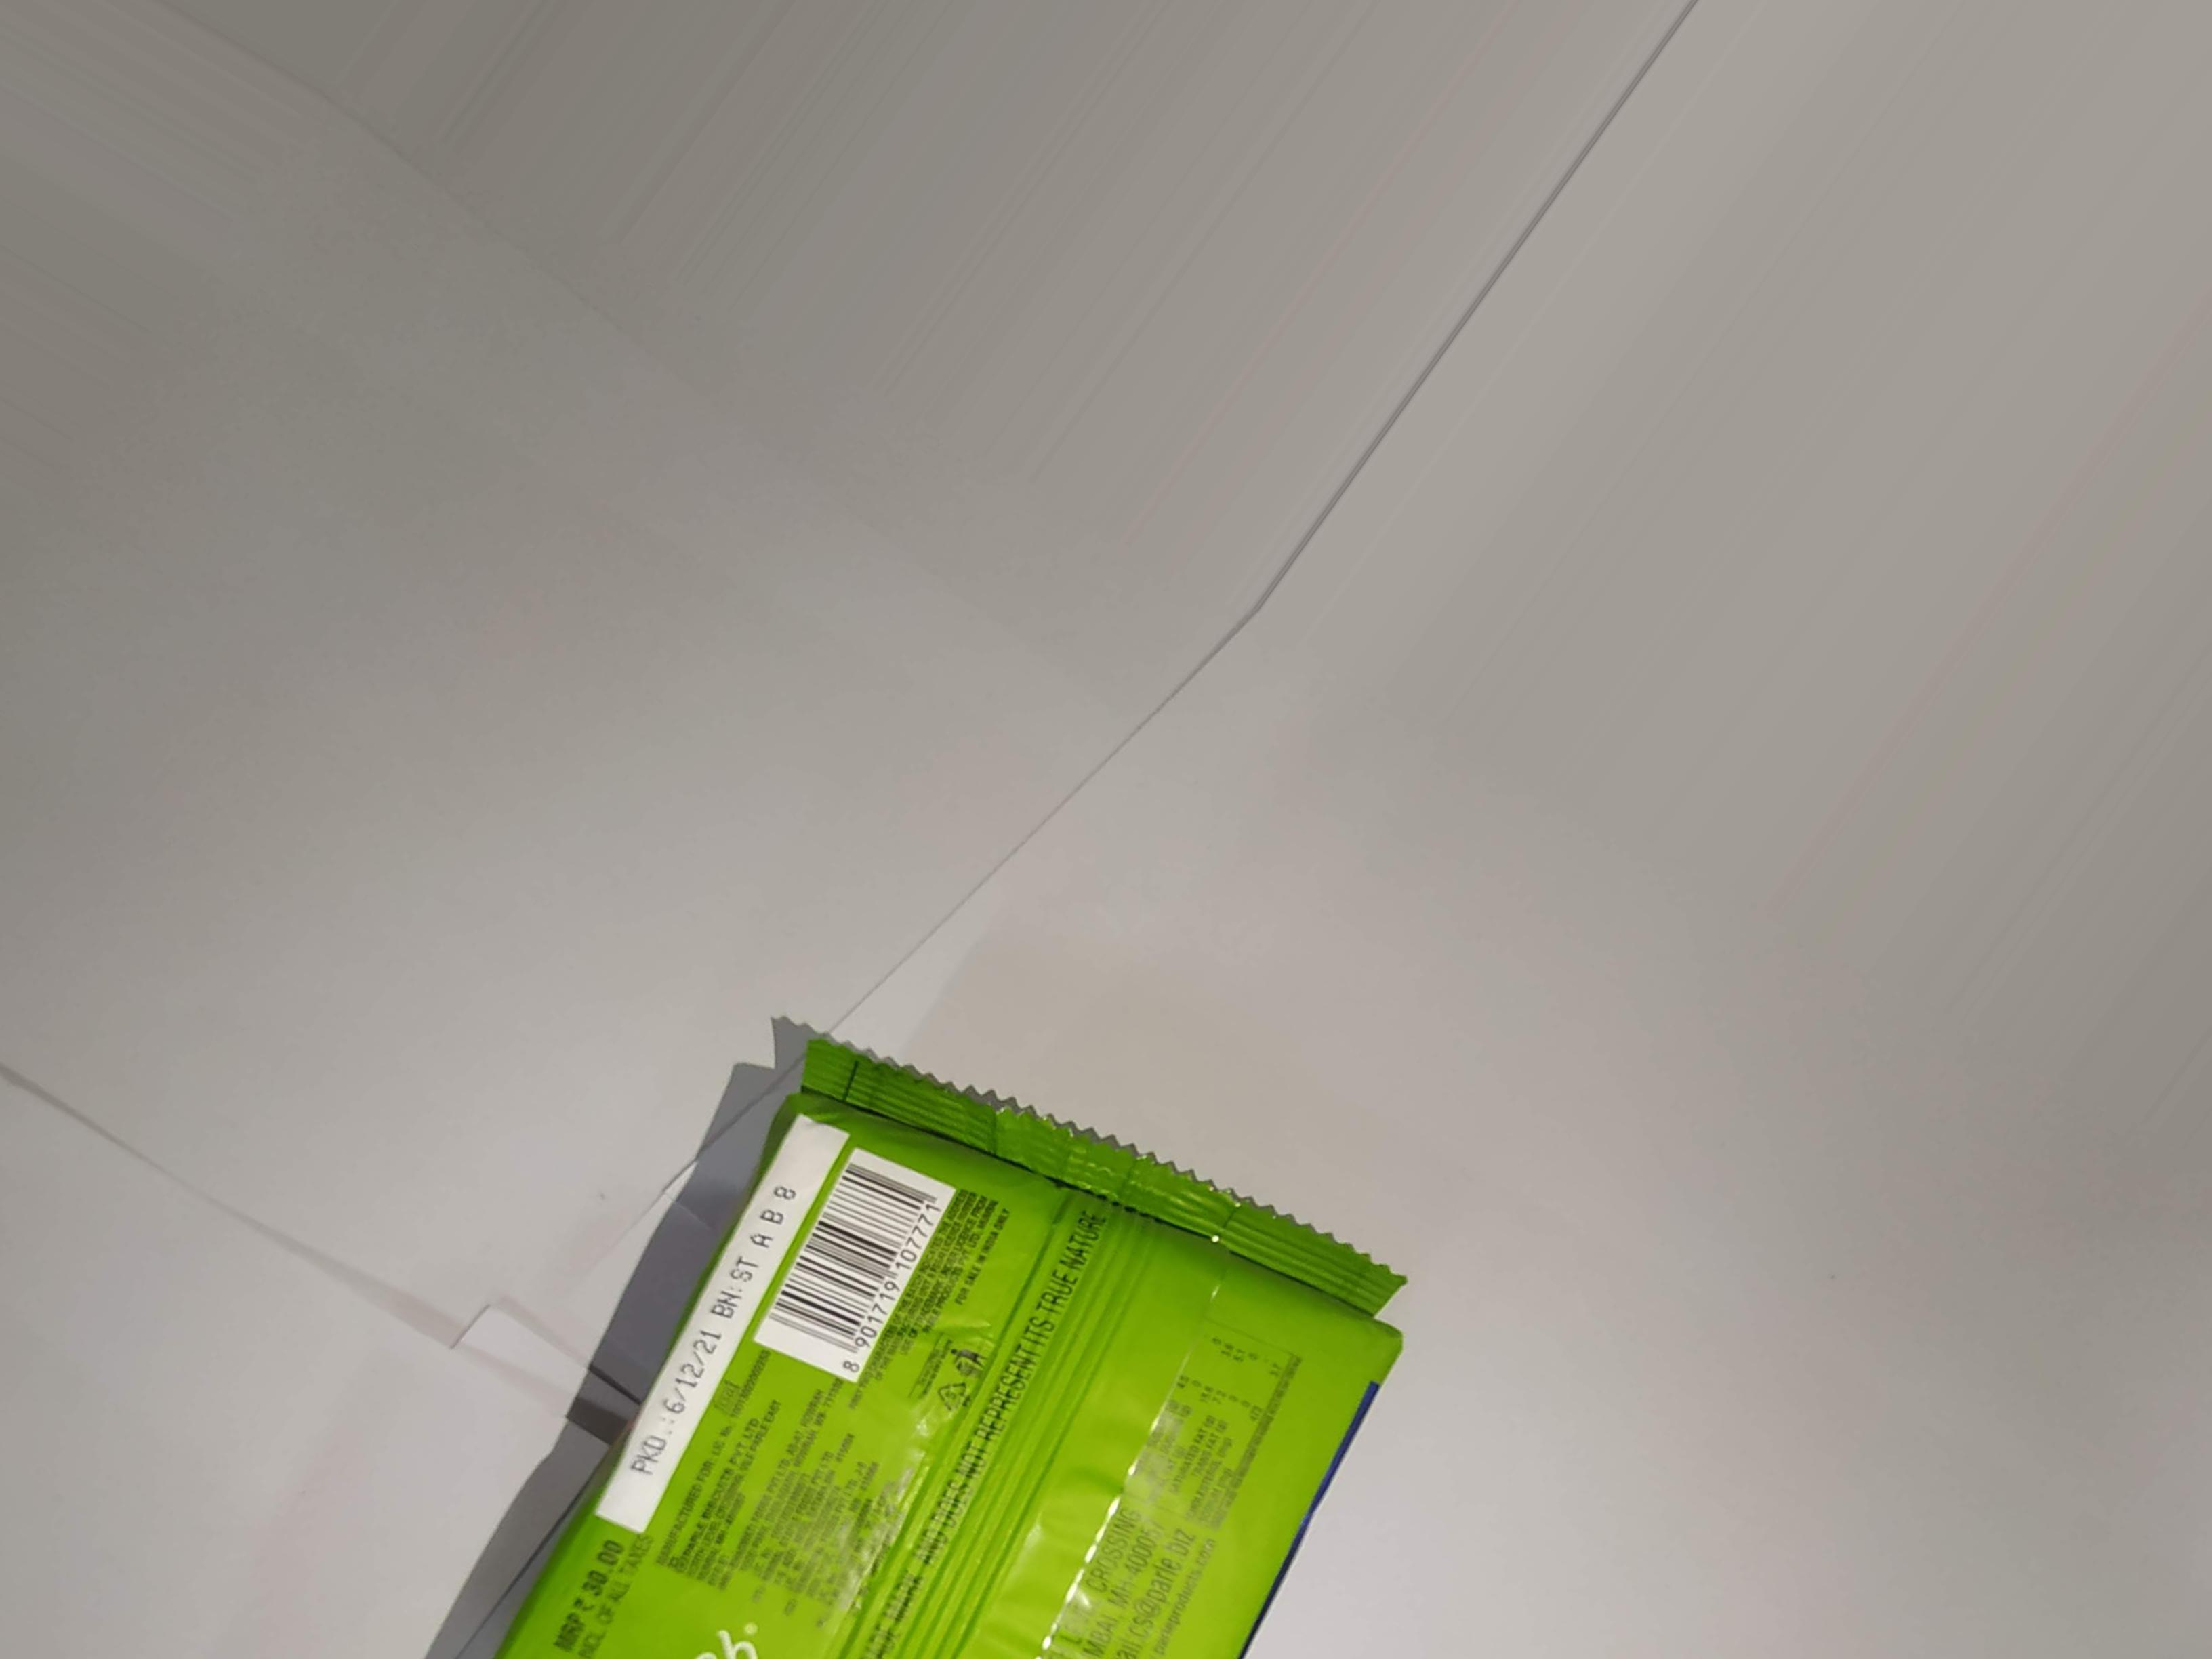Bar_code: (763, 1138, 944, 1422)
Item: (415, 906, 1503, 1659)
